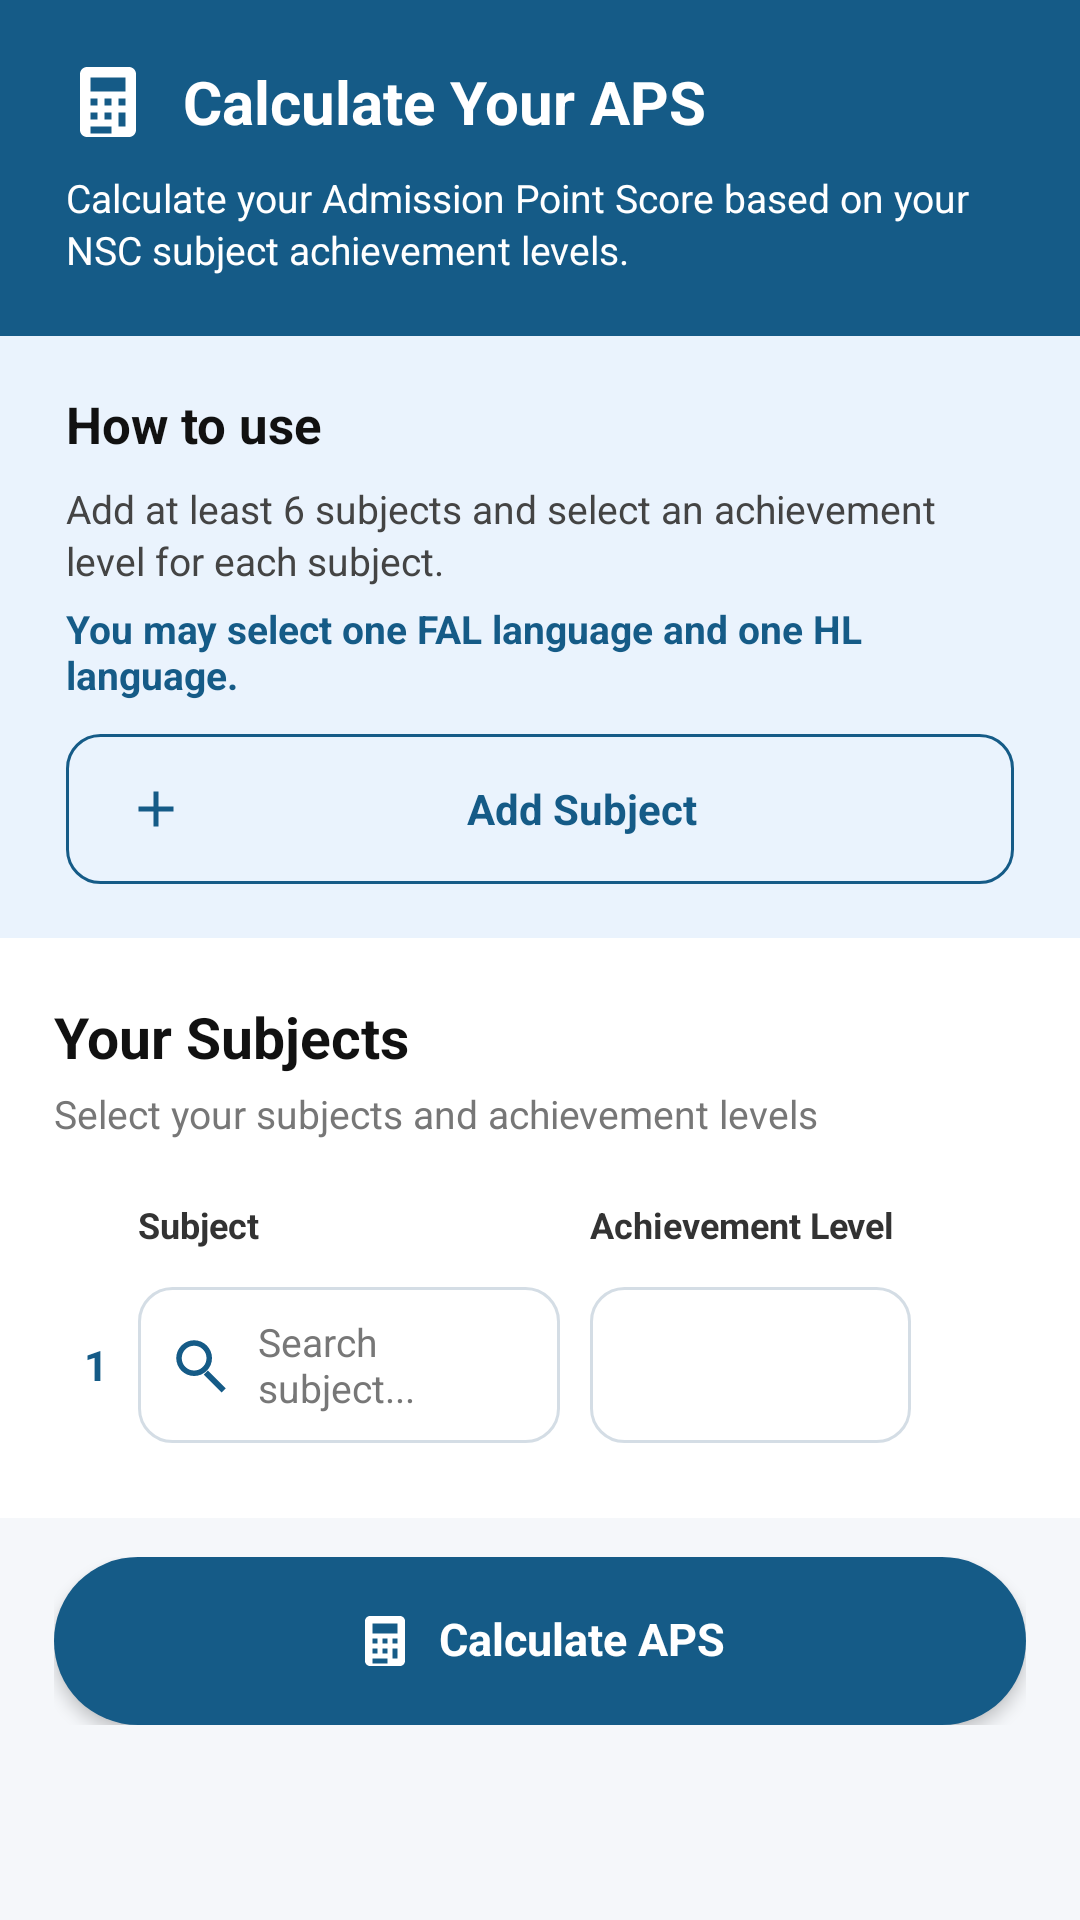

Icon bounding boxes for this 1080px×1920px phone screenshot, format (x1, y1, x2, y2):
Calculator: (80, 67, 136, 137)
